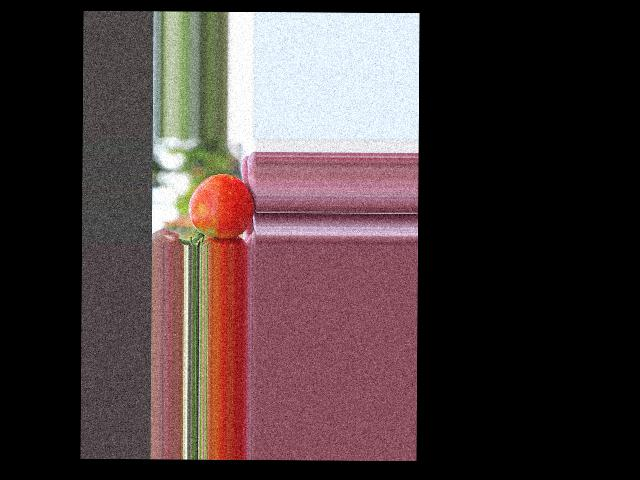tomato: (188, 173, 254, 238)
